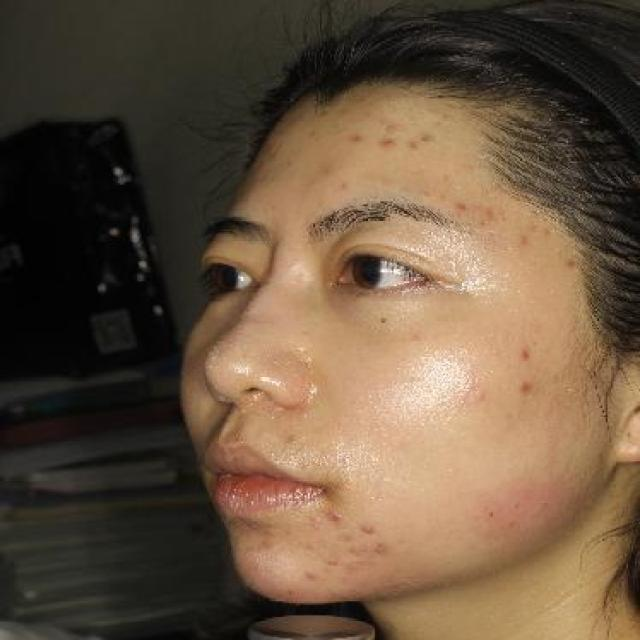Acne: (513, 340, 539, 372), (376, 130, 402, 155), (510, 376, 537, 400), (446, 195, 476, 216), (397, 136, 428, 156), (324, 502, 349, 526), (370, 538, 395, 562), (359, 517, 376, 538)
Blackheads: (484, 505, 500, 526)
